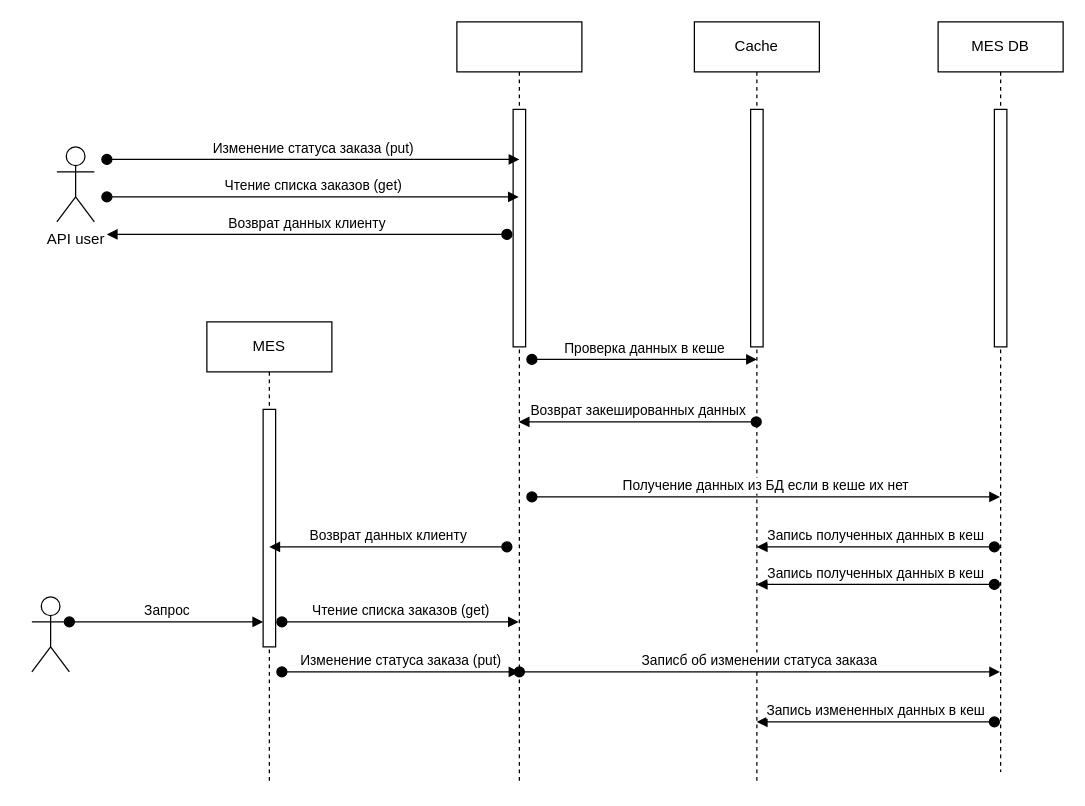
The diagram is 1085 pixels wide and 806 high, and some of its shapes have lost their labels. Here are the shapes that lost their labels. From the top down, the box of each, then its label:
(456, 21, 582, 784): MES API
(31, 596, 69, 672): Operator
